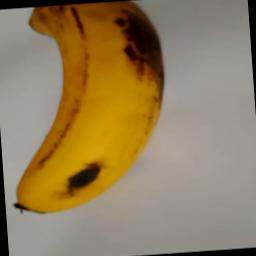Banana Unripe: (0, 0, 175, 211)
